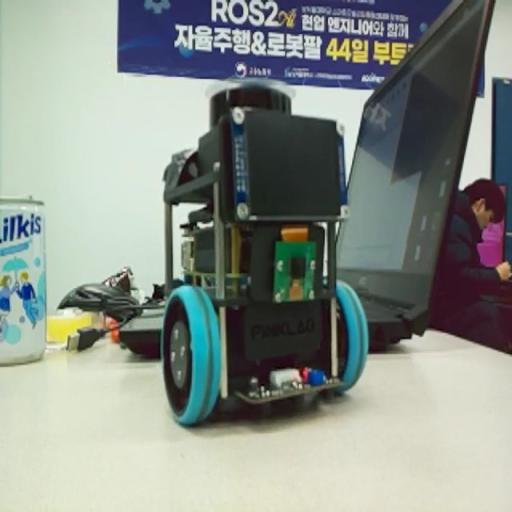pinky_63: (154, 74, 372, 432)
